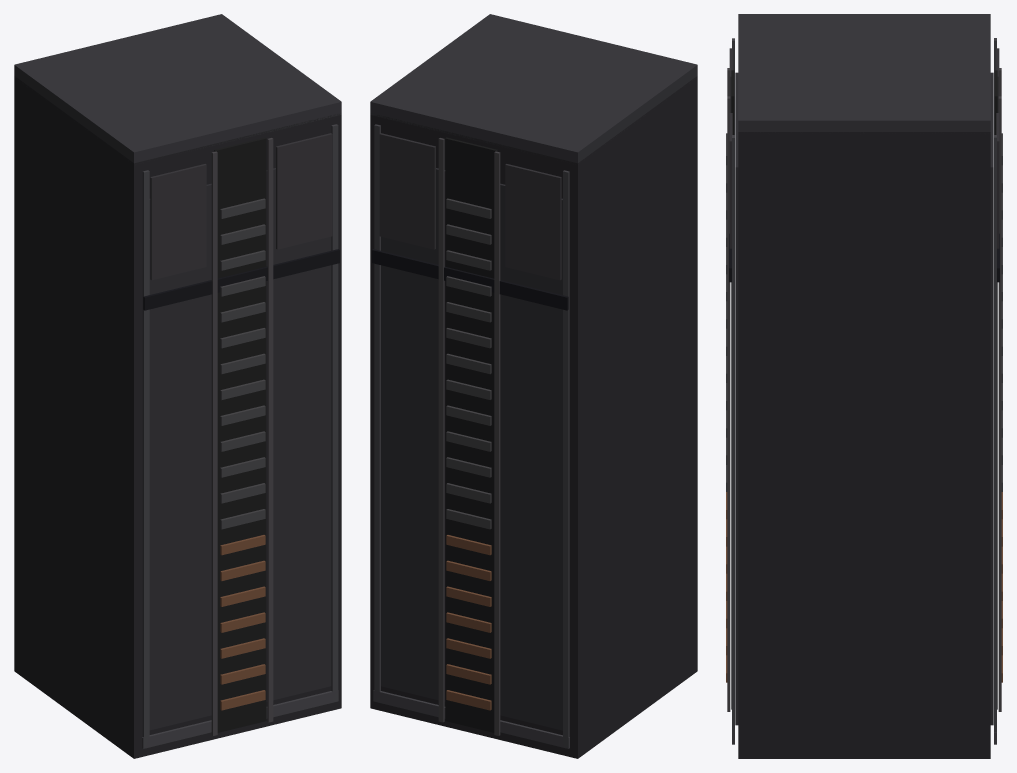
The model's file is CMU3DElevatorGearWall.glb.
3 renders of one model, left to right at view 1: azimuth 30°, elevation 25°; view 2: azimuth 150°, elevation 25°; view 3: azimuth 270°, elevation 25°, orthographic. The views are drawn at different scales.
Visible parts, largest first — view 1: elevator structural wall core, recessed graphite panel, elevator dark top cap, central guide recess, upper graphite cover (×2), elevator vertical trim (×2), guide steel rail (×2), upper belt shadow, elevator lower trim; view 2: elevator structural wall core, recessed graphite panel, elevator dark top cap, central guide recess, upper graphite cover (×2), guide steel rail (×2), elevator vertical trim (×2), upper belt shadow, elevator lower trim; view 3: elevator structural wall core, elevator dark top cap, recessed graphite panel (×2), guide steel rail (×2), elevator vertical trim (×2), central guide recess (×2).
Part boxes in pixels (x1,y1,x2,y2): elevator structural wall core: (14,76,341,758); recessed graphite panel: (149,168,331,730); elevator dark top cap: (14,14,341,163); central guide recess: (214,137,266,732); upper graphite cover (×2): (150,133,332,280); elevator vertical trim (×2): (142,124,338,747); guide steel rail (×2): (211,138,273,735); upper belt shadow: (143,249,339,310); elevator lower trim: (142,690,338,748); elevator structural wall core: (370,76,697,758); recessed graphite panel: (381,168,562,730); elevator dark top cap: (370,14,697,163); central guide recess: (445,137,497,732); upper graphite cover (×2): (379,133,561,280); guide steel rail (×2): (438,138,500,735); elevator vertical trim (×2): (374,124,569,747); upper belt shadow: (372,249,568,310); elevator lower trim: (373,690,569,748); elevator structural wall core: (738,132,990,758); elevator dark top cap: (738,14,990,133); recessed graphite panel (×2): (735,72,993,725); guide steel rail (×2): (727,96,1001,711); elevator vertical trim (×2): (732,135,996,732); central guide recess (×2): (731,70,997,709).
Size of the model in its own units: 1 by 2.79 by 1.1.
